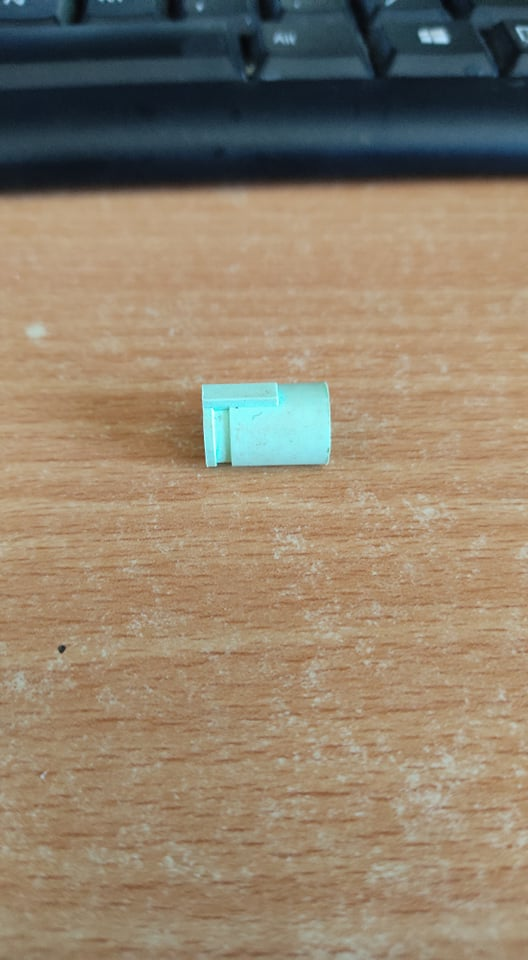green_bucking: (166, 358, 352, 482)
